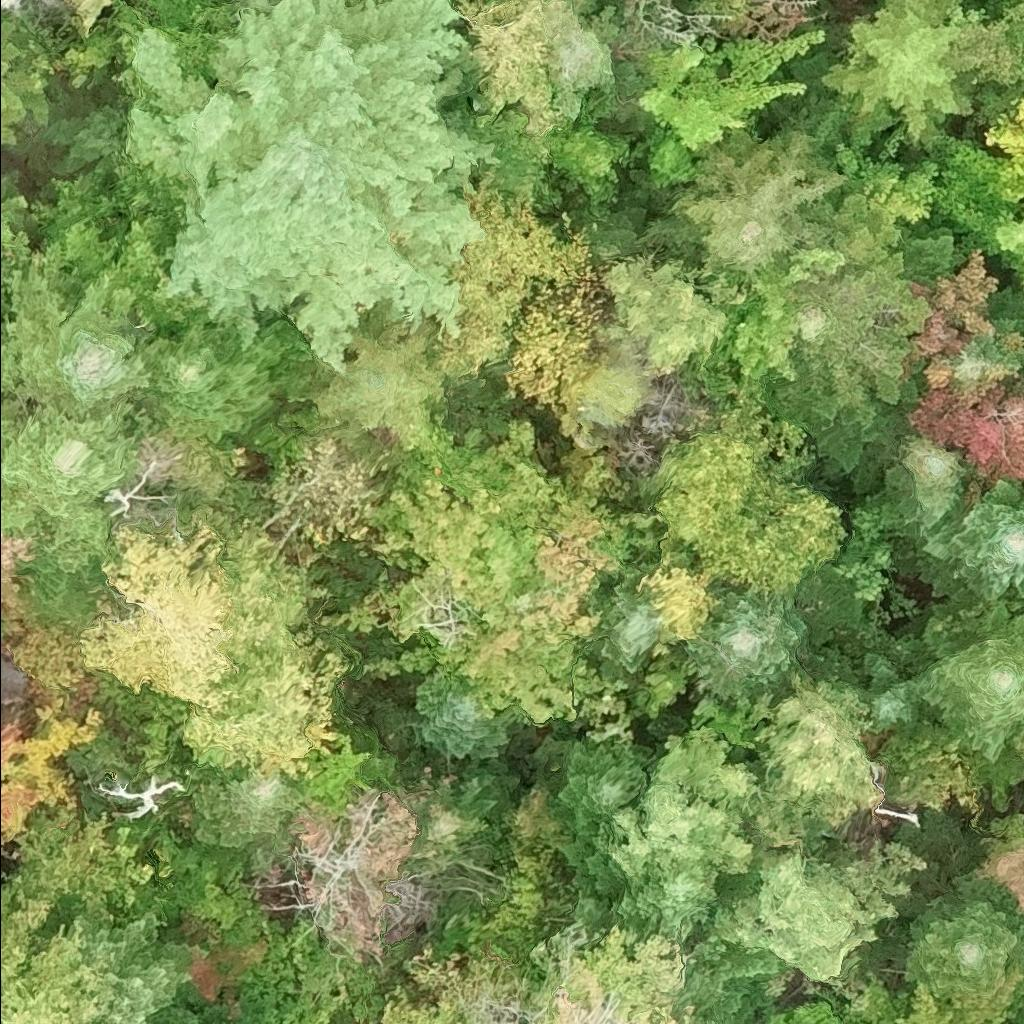crown: (126, 0, 501, 376), (592, 670, 931, 982), (368, 416, 664, 725), (759, 195, 966, 495), (78, 506, 327, 715), (644, 374, 852, 598), (641, 128, 852, 289), (432, 172, 590, 378), (635, 26, 825, 190), (183, 617, 351, 786), (0, 388, 139, 576), (0, 246, 151, 419), (140, 309, 317, 443), (819, 0, 972, 153), (41, 212, 207, 340), (11, 804, 157, 938), (914, 596, 1023, 768), (902, 870, 1023, 1023), (310, 319, 448, 453), (556, 832, 722, 940), (449, 0, 581, 133), (724, 246, 844, 387), (71, 902, 209, 1023), (543, 924, 698, 1023), (0, 695, 102, 845), (264, 432, 390, 553), (681, 586, 813, 700), (911, 474, 1023, 602), (0, 896, 109, 1023), (931, 127, 1023, 277), (904, 375, 1023, 486), (904, 248, 999, 386), (550, 732, 660, 838), (635, 534, 724, 658), (176, 909, 268, 1021), (187, 767, 306, 848), (880, 435, 966, 538), (828, 489, 903, 603), (23, 166, 121, 250), (417, 686, 520, 760), (952, 284, 1023, 391), (851, 651, 940, 735), (587, 577, 660, 677), (36, 101, 131, 176), (841, 974, 986, 1023), (0, 18, 51, 150), (290, 732, 373, 810), (185, 880, 262, 947), (976, 810, 1023, 913), (980, 96, 1023, 201), (0, 525, 39, 634), (360, 982, 460, 1023), (0, 177, 35, 289), (54, 32, 117, 89), (65, 0, 115, 37), (765, 1002, 842, 1023), (292, 996, 336, 1023), (0, 879, 16, 941), (196, 1002, 233, 1023), (703, 0, 745, 17), (1009, 982, 1023, 1023), (0, 286, 9, 343), (1011, 731, 1023, 768), (1009, 52, 1023, 82), (44, 0, 69, 16), (0, 0, 23, 10), (1013, 31, 1023, 40), (348, 0, 362, 6), (1021, 92, 1023, 97), (376, 0, 383, 1)
